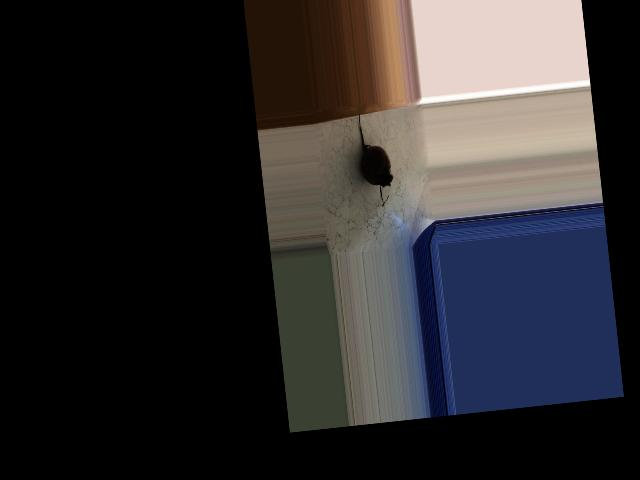beet: (355, 108, 395, 208)
